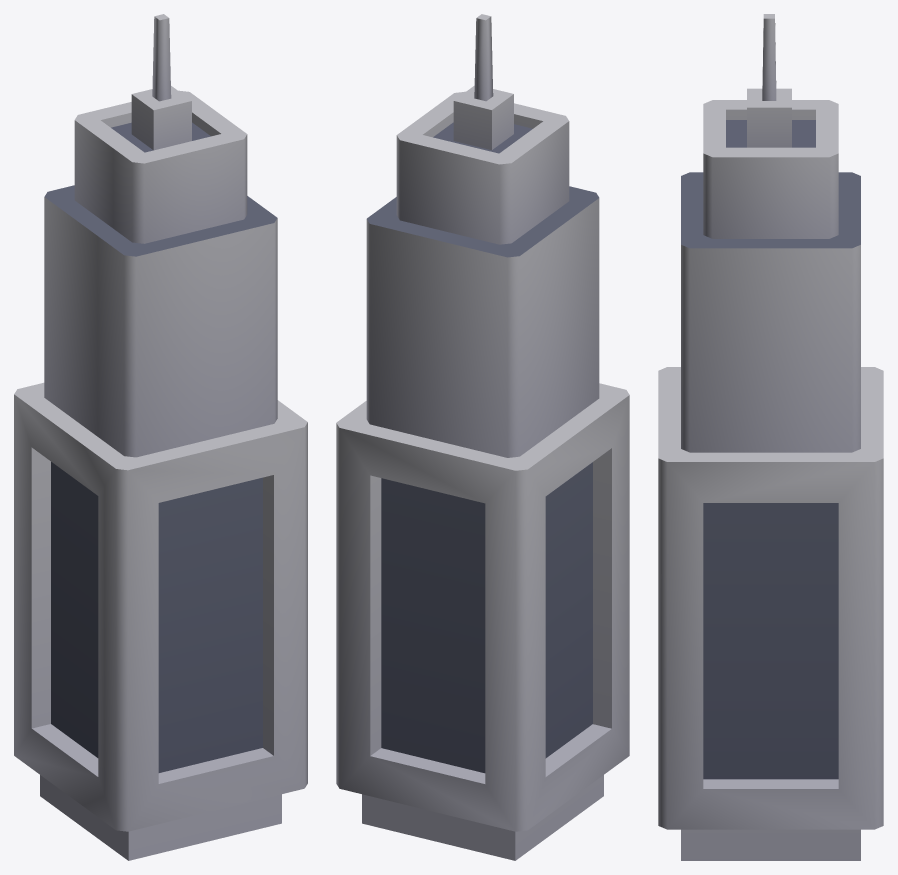
The model's file is low-detail-building-m.glb.
3 views of the same model, side by side, from view 1: azimuth 30°, elevation 25°; view 2: azimuth 150°, elevation 25°; view 3: azimuth 270°, elevation 25° (orthographic).
Visible parts, largest first — view 1: low-detail-building-m; view 2: low-detail-building-m; view 3: low-detail-building-m.
Boxes of the visible parts, left/top/right/bottom form: low-detail-building-m: left=14, top=14, right=307, bottom=860; low-detail-building-m: left=336, top=14, right=629, bottom=860; low-detail-building-m: left=658, top=14, right=883, bottom=860.
Size of the model in its own units: 0.5 by 1.98 by 0.5.
